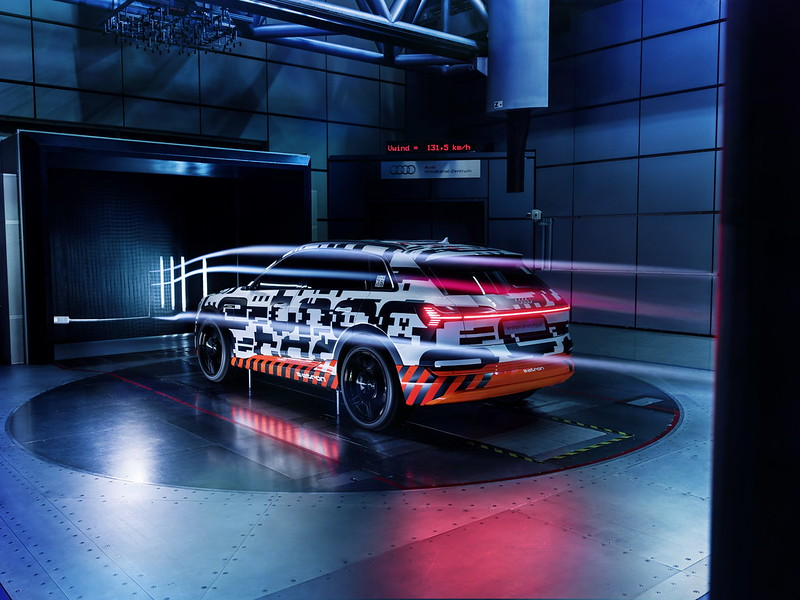car: (192, 236, 578, 426)
